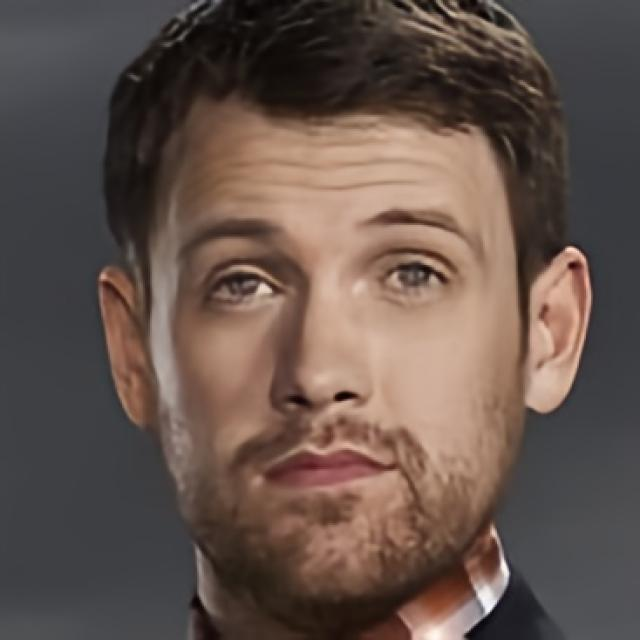surprise: (150, 86, 523, 619)
